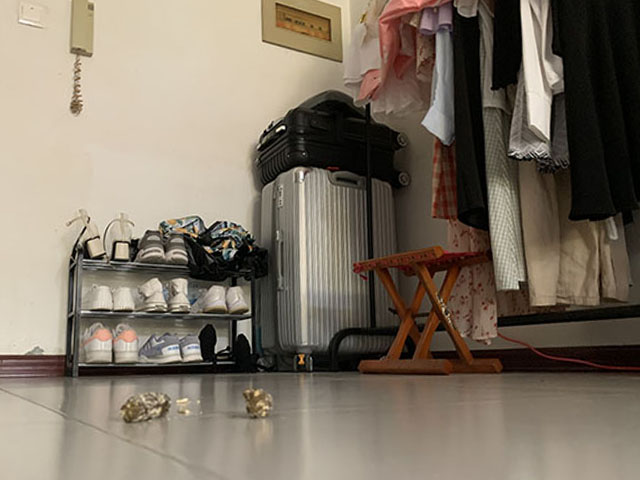feces: (119, 390, 172, 424), (241, 387, 275, 420)
stool: (352, 246, 493, 374)
wire: (498, 331, 640, 373)
